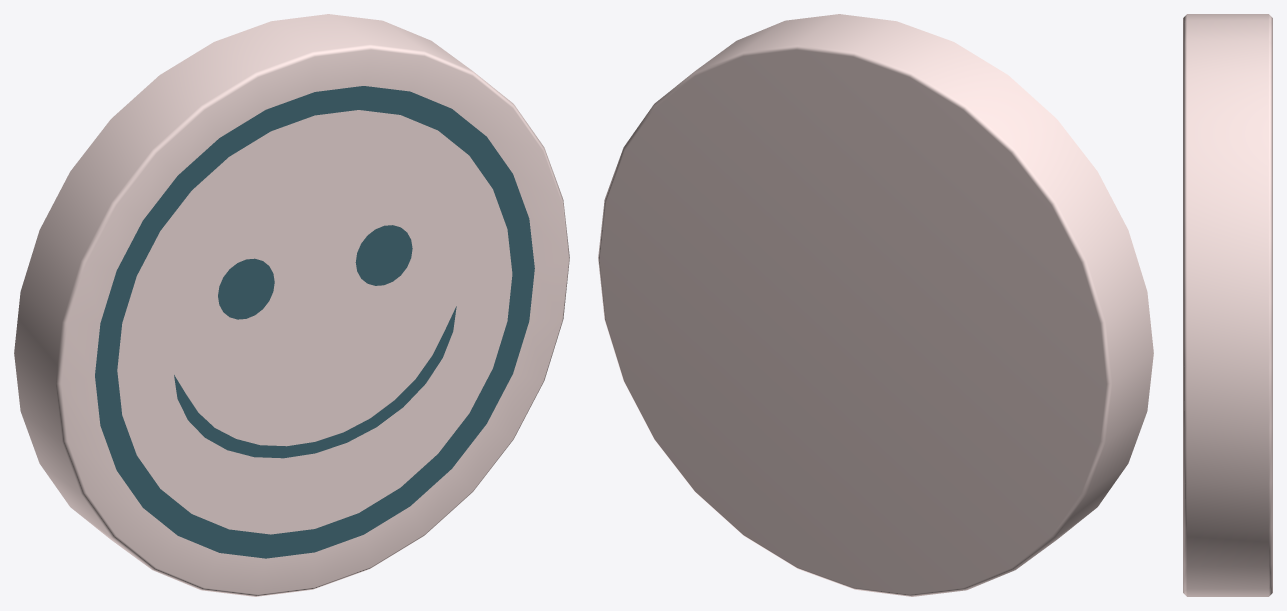
The model's file is City_5_Sign_2.glb.
3 views of the same model, side by side, from view 1: azimuth 30°, elevation 25°; view 2: azimuth 150°, elevation 25°; view 3: azimuth 270°, elevation 25° (orthographic).
Parts seen in each view (by area): view 1: City_5_Sign_2; view 2: City_5_Sign_2; view 3: City_5_Sign_2.
Part boxes in pixels (x1,y1,x2,y2): City_5_Sign_2: (14,14,569,596); City_5_Sign_2: (598,14,1153,596); City_5_Sign_2: (1183,14,1272,596).
Bounding box in the file's own units: 0.6642 × 0.6642 × 0.1034.
Materials: 1 (1 with a texture image).
